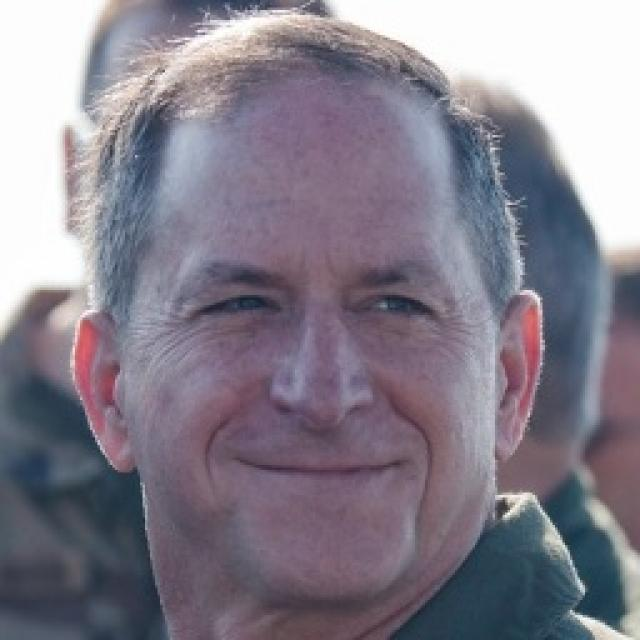no-glasses: (163, 257, 474, 361)
